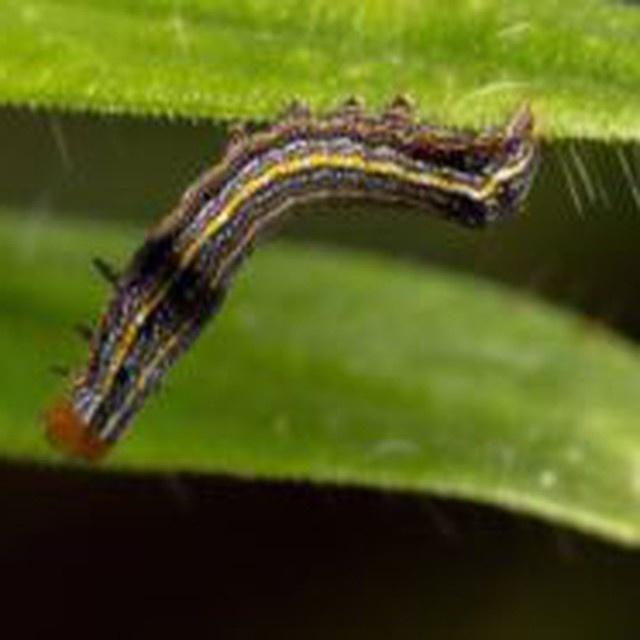Plaga: (37, 91, 544, 476)
